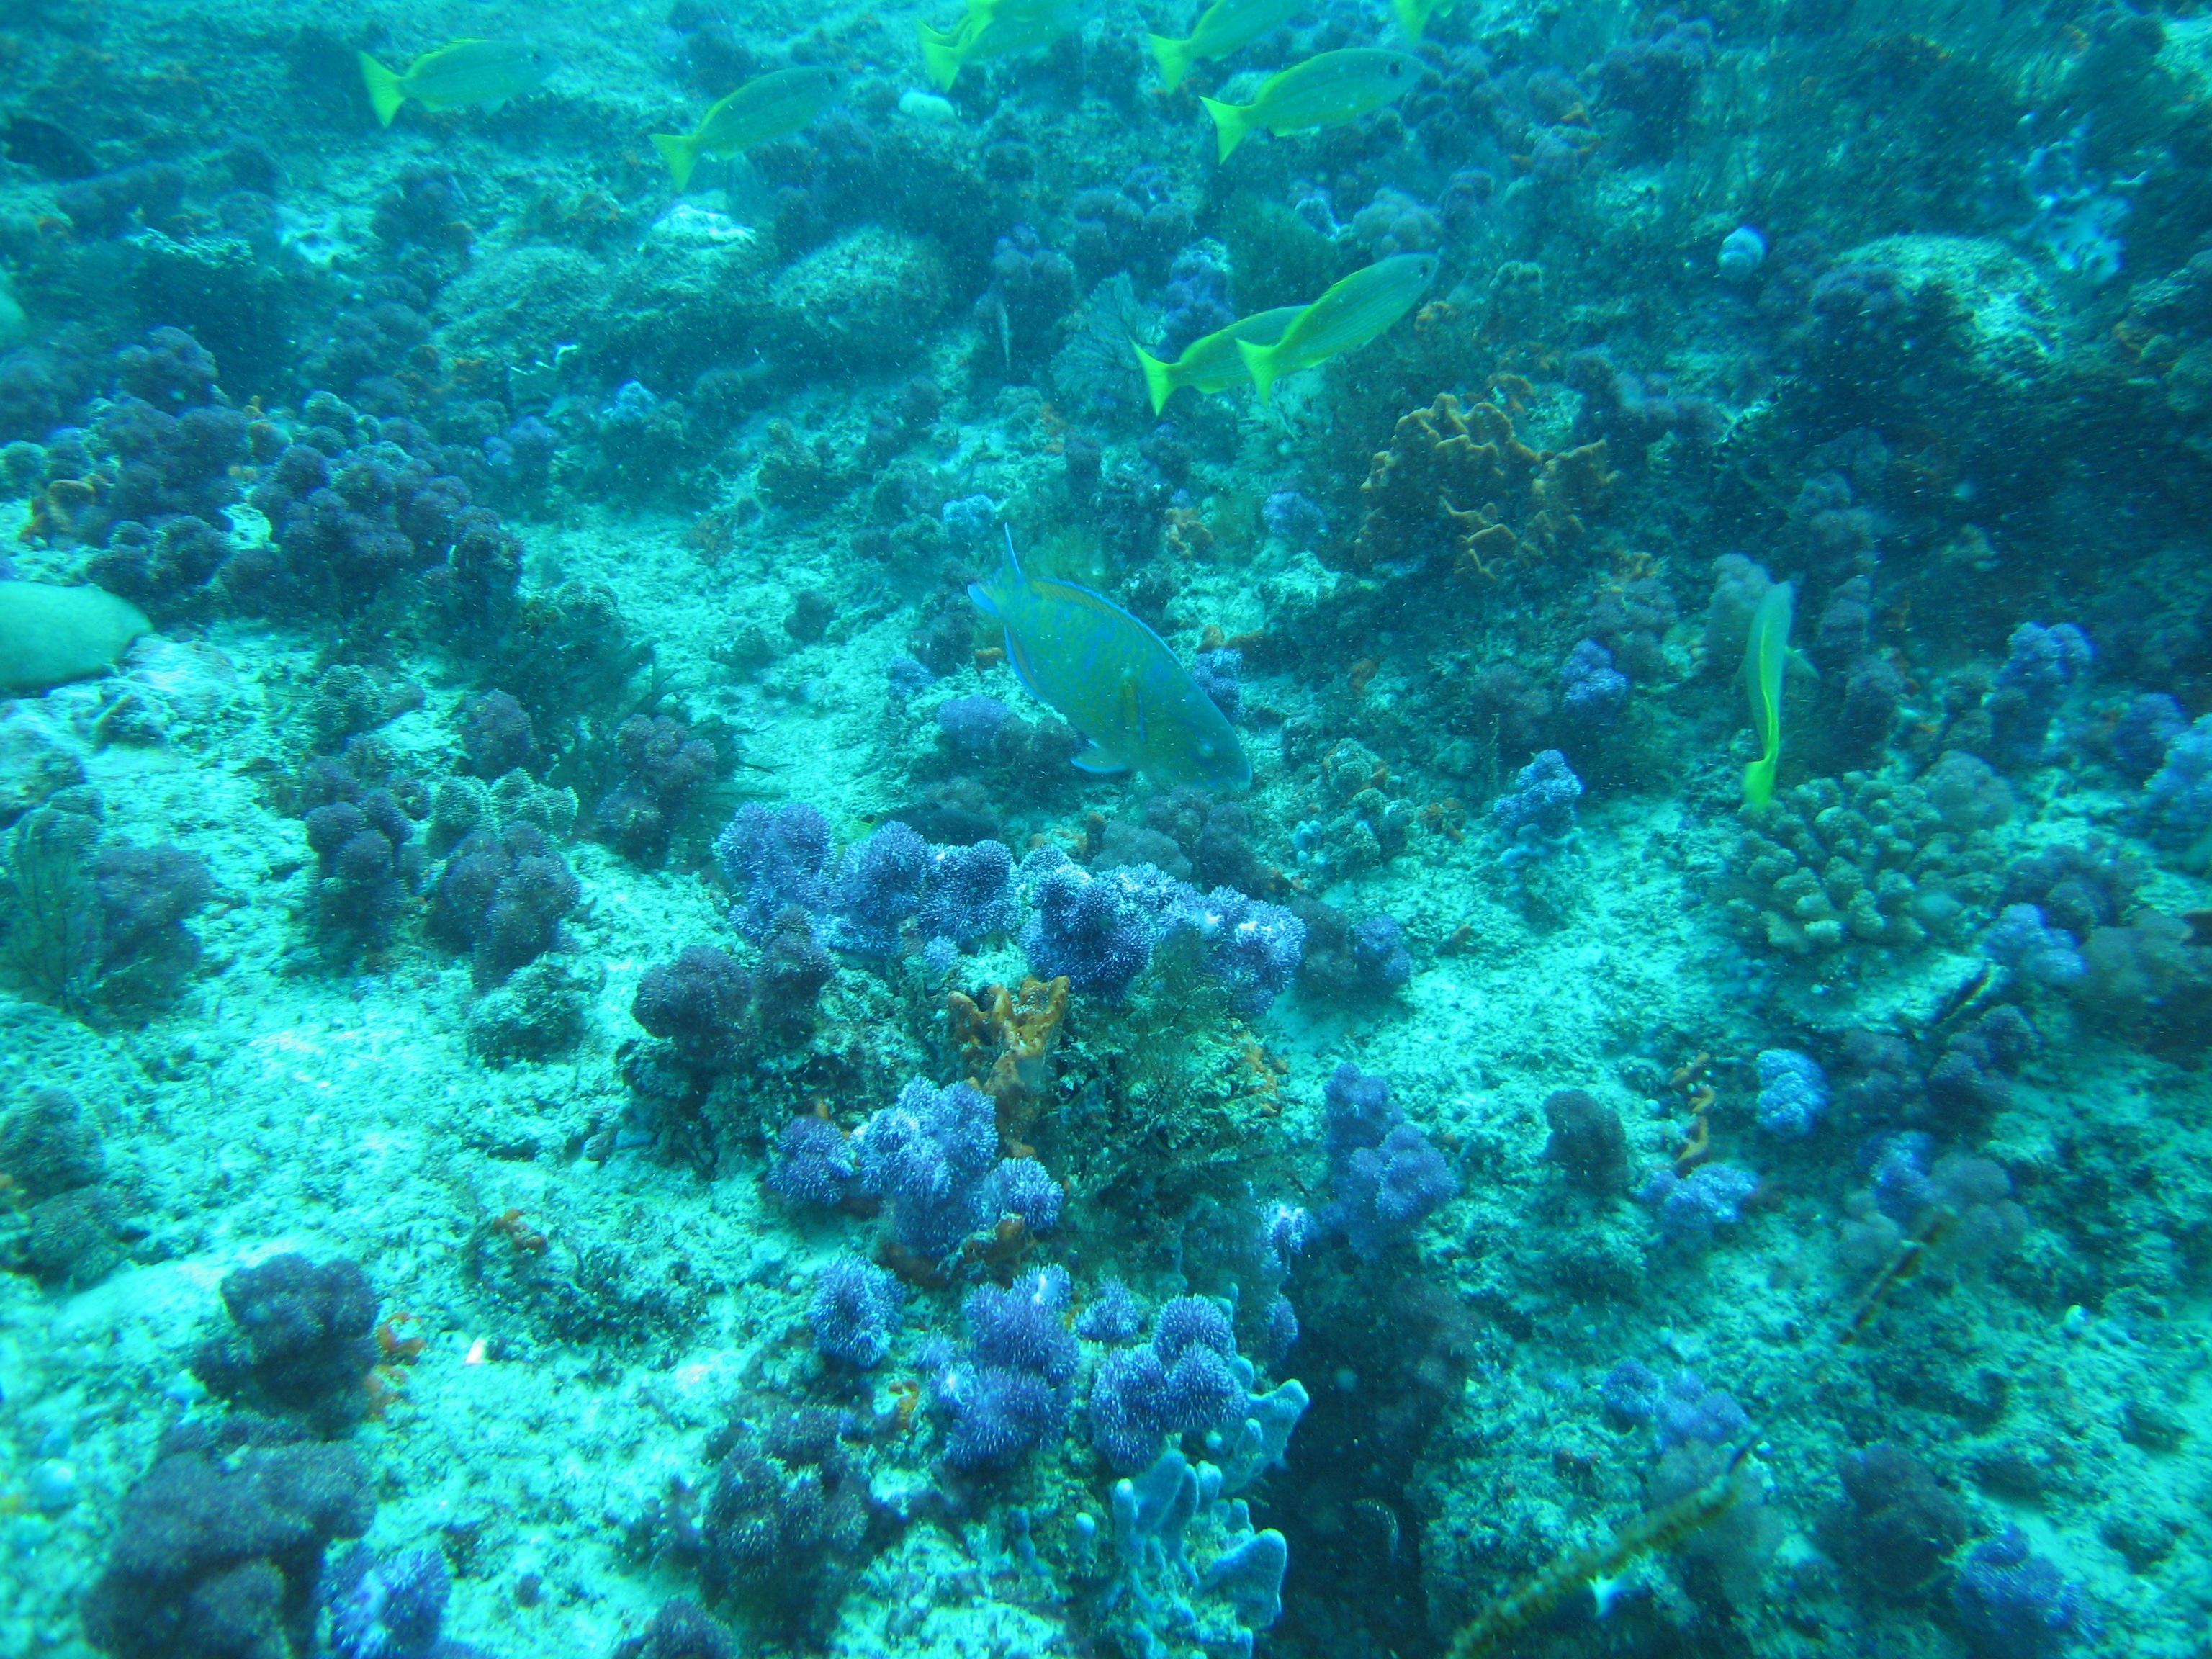Scarus ghobban: (843, 486, 1400, 850)
